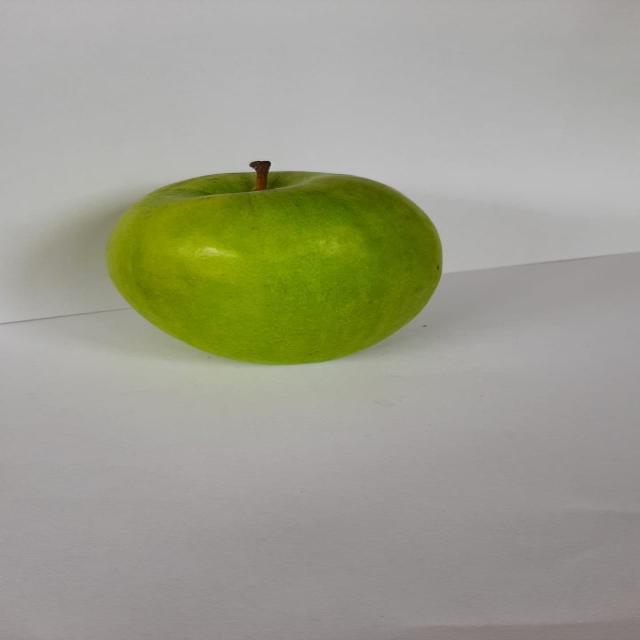50-_ripeness: (80, 146, 452, 372)
